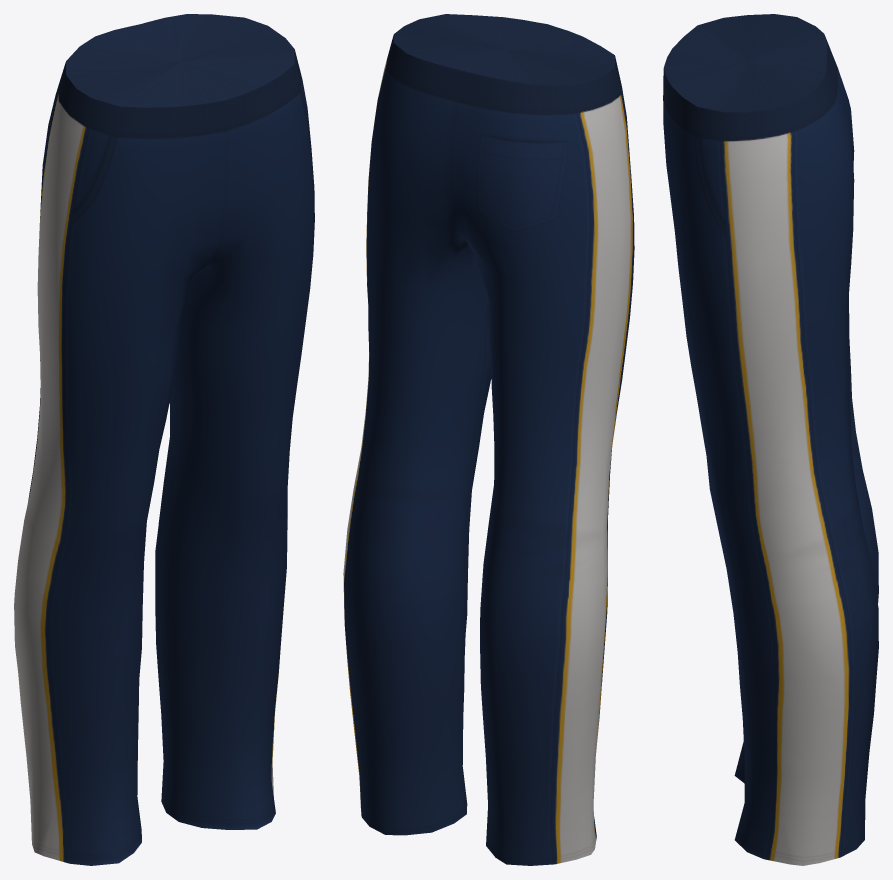
File: Pants_14_Albedo.glb
3 renders of one model, left to right at view 1: azimuth 30°, elevation 25°; view 2: azimuth 150°, elevation 25°; view 3: azimuth 270°, elevation 25°, orthographic. The views are drawn at different scales.
Parts seen in each view (by area): view 1: Pants_LP; view 2: Pants_LP; view 3: Pants_LP.
Part boxes in pixels (<box>): Pants_LP: <box>14,14,314,865</box>; Pants_LP: <box>343,14,634,865</box>; Pants_LP: <box>663,14,878,865</box>.
Bounding box in the file's own units: 0.3227 × 0.9491 × 0.2454.
1 material, 1 textured.
